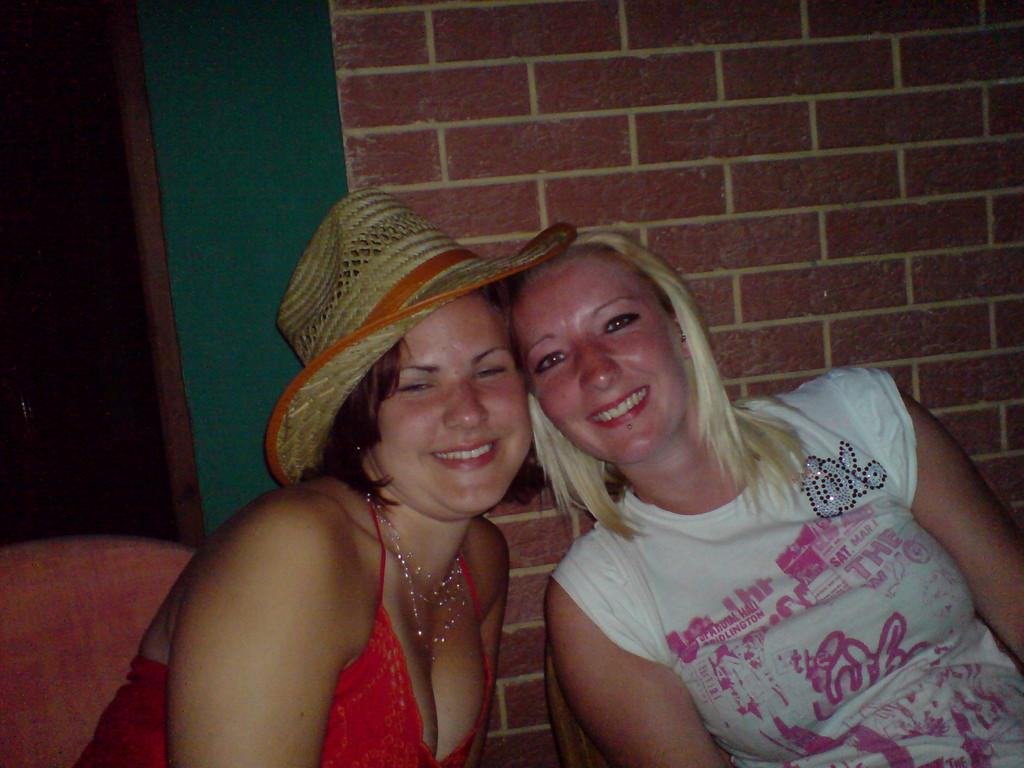Hat: (264, 187, 578, 492)
